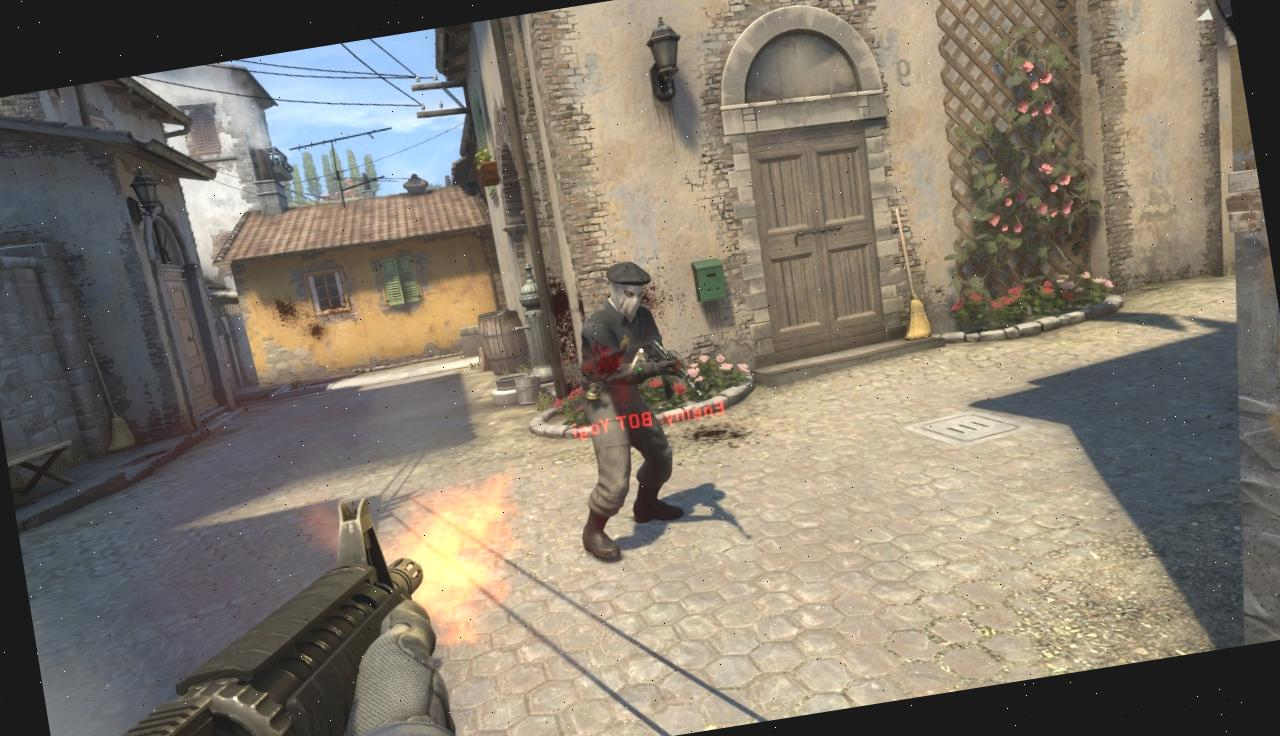rifle: (22, 495, 457, 736)
tt: (542, 254, 696, 562)
tthead: (600, 260, 656, 320)
